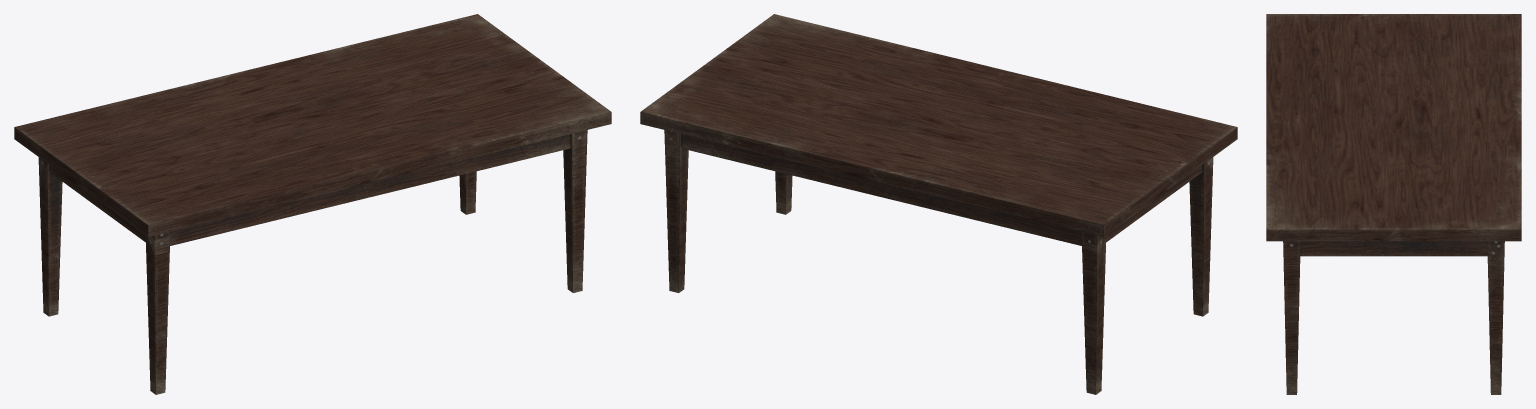
File: mesa.glb
3 renders of one model, left to right at view 1: azimuth 30°, elevation 25°; view 2: azimuth 150°, elevation 25°; view 3: azimuth 270°, elevation 25°, orthographic. The views are drawn at different scales.
Parts seen in each view (by area): view 1: Mesa; view 2: Mesa; view 3: Mesa.
Part boxes in pixels (x1,y1,x2,y2): Mesa: (14, 14, 611, 394); Mesa: (640, 14, 1237, 394); Mesa: (1266, 14, 1521, 394).
Bounding box in the file's own units: 2.03 × 0.7629 × 1.02.
1 material, 1 textured.
